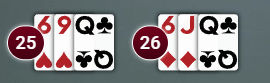6: (156, 13, 179, 37), (32, 13, 53, 36)
9: (53, 14, 74, 37)
j: (178, 13, 198, 38)
q: (197, 13, 221, 38), (74, 14, 97, 37)
